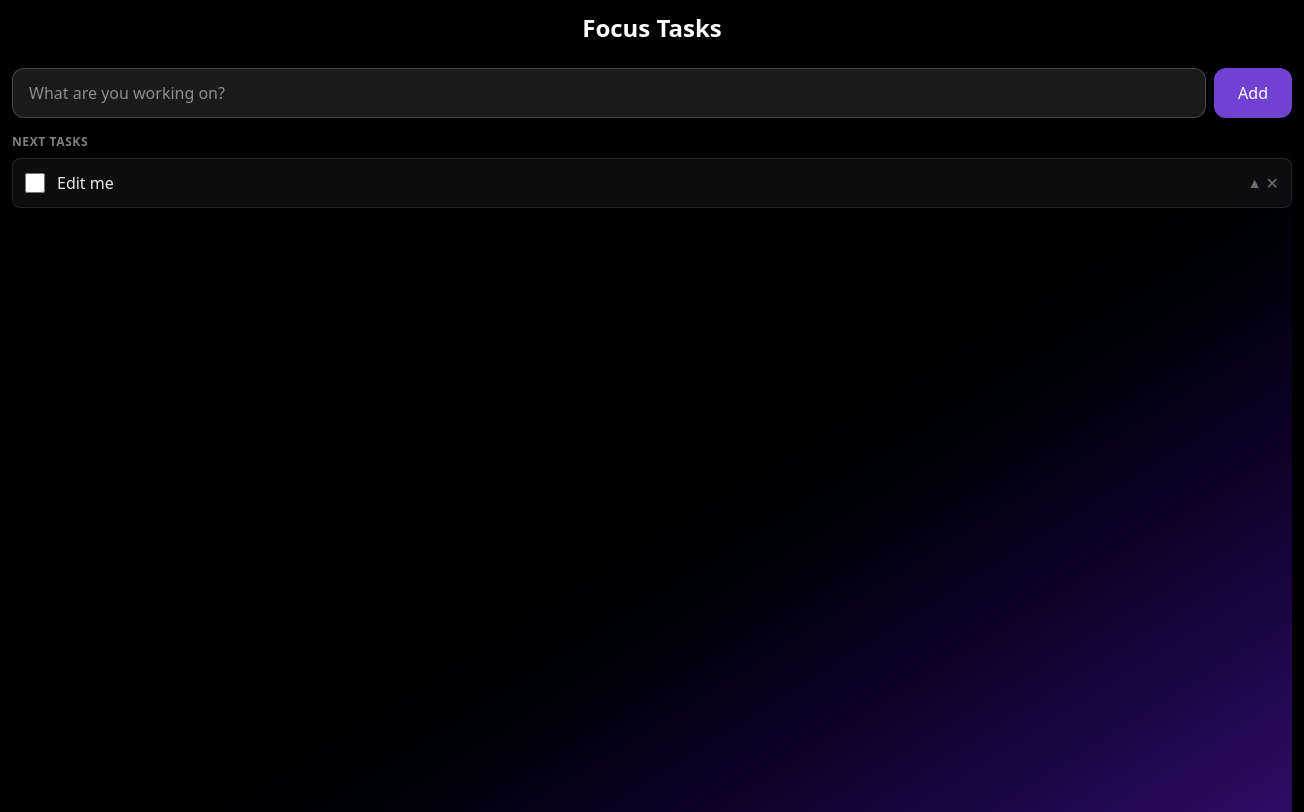
Scenario: Phase 2 — TodoList component › 2.4 editing tasks (UI) › enters edit mode on double-click
Double-click the text "Edit me" at (85, 183), box top-left (57, 172), bottom-right (114, 194)
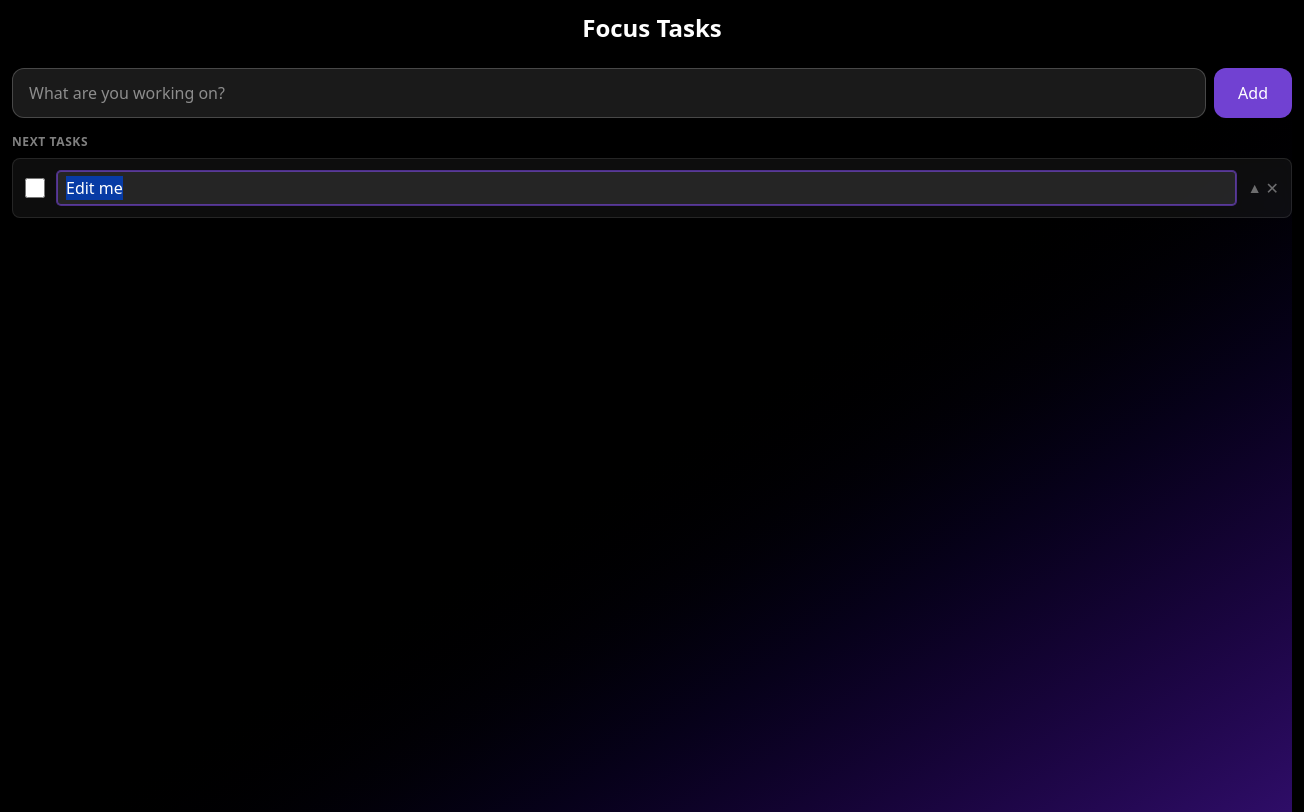
Check: the field showing "Edit me" is shown, box top-left (57, 171), bottom-right (1236, 205)
